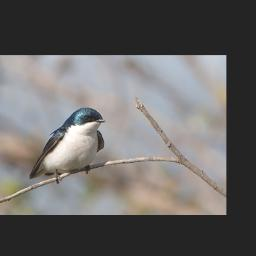Swallow: (27, 107, 105, 185)
